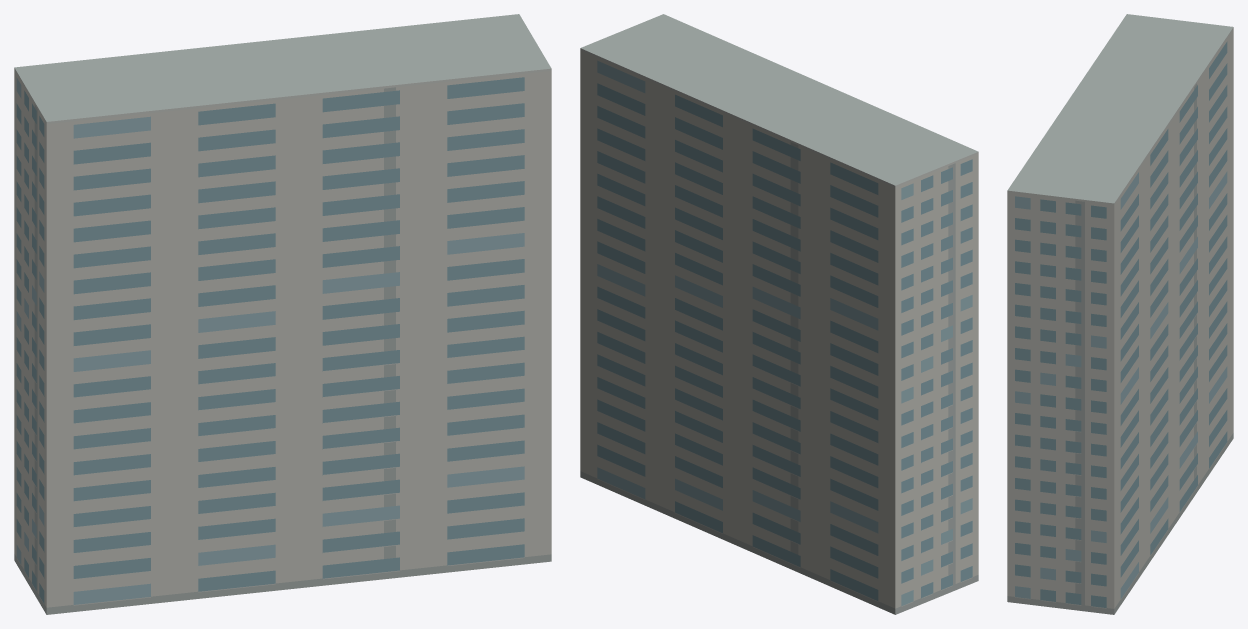
File: residential-18b99349-b1bd-4184-9469-f9c23289a59d.glb
The picture shows the model from 3 angles, left to right: view 1: azimuth 30°, elevation 25°; view 2: azimuth 150°, elevation 25°; view 3: azimuth 270°, elevation 25°; orthographic projection. The views are drawn at different scales.
Visible parts, largest first — view 1: residential-18b99349-b1bd-4184-9469-f9c23289a59d.tmp; view 2: residential-18b99349-b1bd-4184-9469-f9c23289a59d.tmp; view 3: residential-18b99349-b1bd-4184-9469-f9c23289a59d.tmp.
Part boxes in pixels (bbox=[...]): residential-18b99349-b1bd-4184-9469-f9c23289a59d.tmp: bbox=[14, 14, 551, 614]; residential-18b99349-b1bd-4184-9469-f9c23289a59d.tmp: bbox=[580, 14, 978, 614]; residential-18b99349-b1bd-4184-9469-f9c23289a59d.tmp: bbox=[1007, 14, 1233, 614].
Size of the model in its own units: 52.35 by 53 by 26.43.
